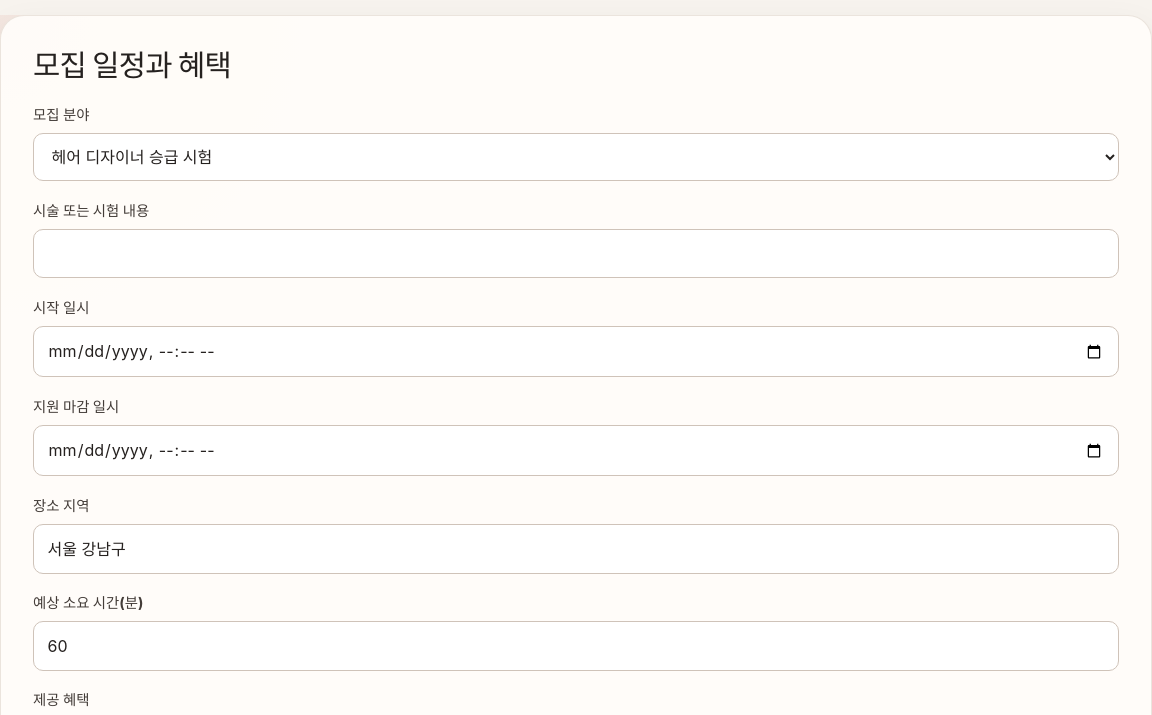
Test case: rejects a paid makeup opportunity when cash amount validation is removed
Type "Bridal makeup practical exam" into the field labelled "시술 또는 시험 내용" at (576, 254), box top-left (33, 229), bottom-right (1119, 278)
Type "2099-06-01T10:00" into the field labelled "시작 일시" at (576, 352), box top-left (33, 326), bottom-right (1119, 377)
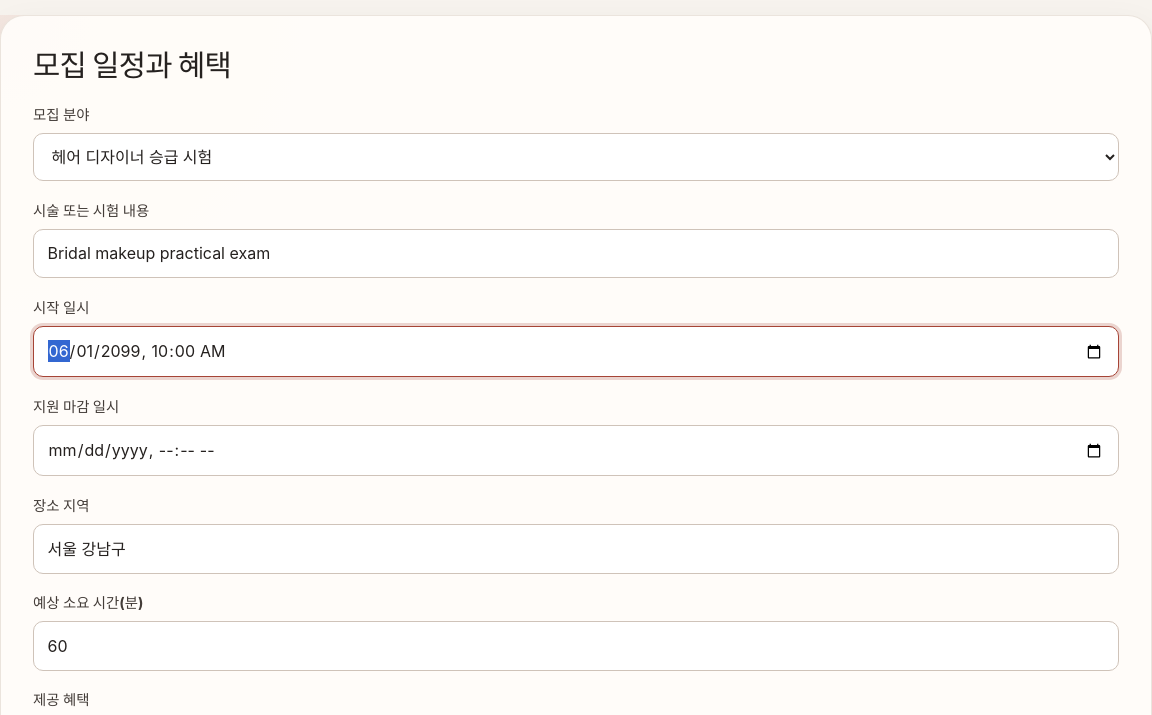
Type "2099-05-31T18:00" into the field labelled "지원 마감 일시" at (576, 451), box top-left (33, 425), bottom-right (1119, 476)
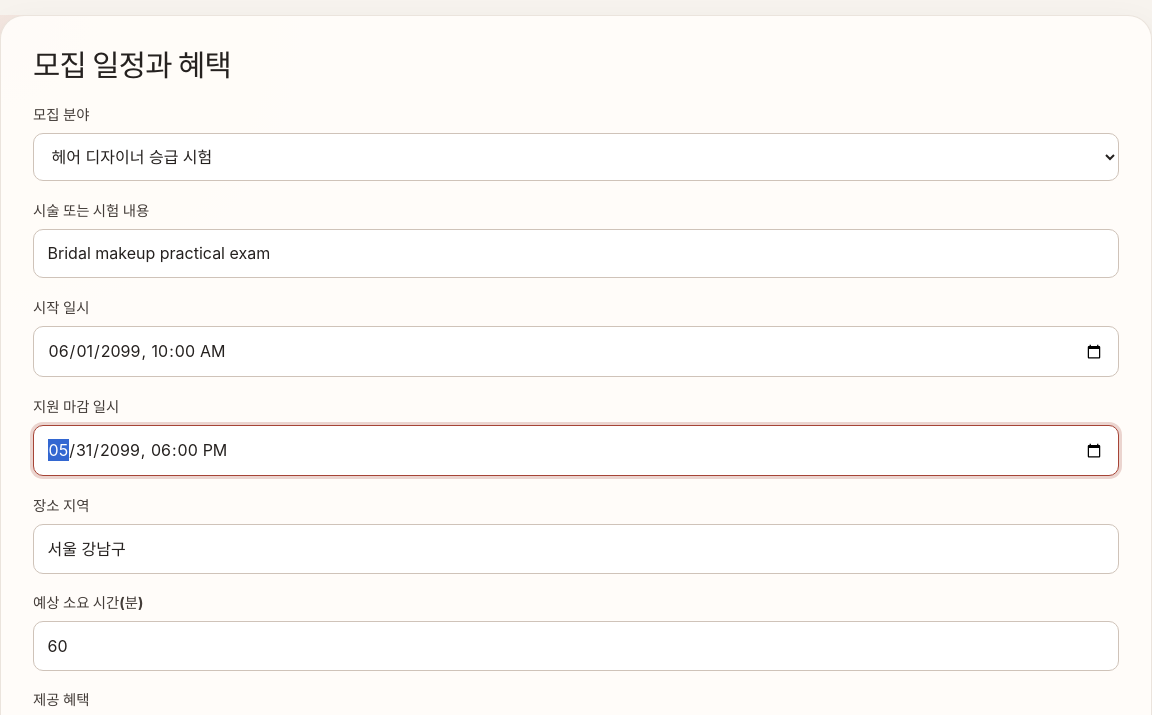
Replace the text in the number field labelled "예상 소요 시간(분)" with "120" at (576, 646), box top-left (33, 621), bottom-right (1119, 671)
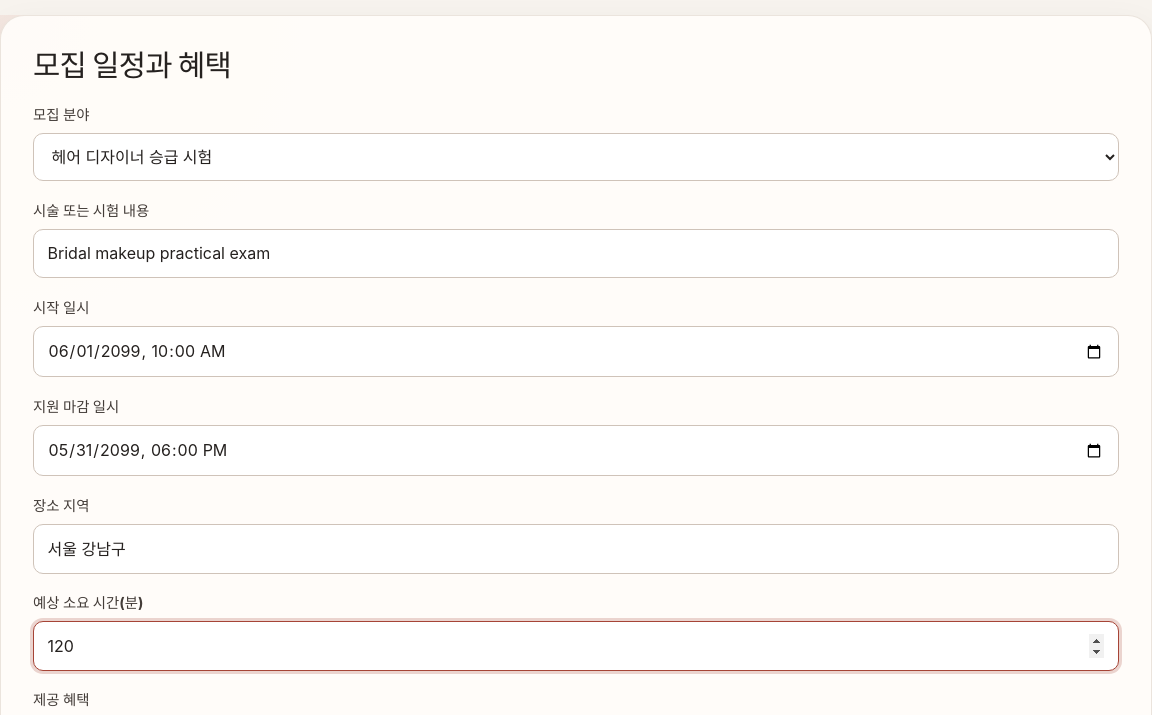
Select "메이크업 국가자격 실기시험" in the dropdown labelled "모집 분야" at (576, 157), box top-left (33, 133), bottom-right (1119, 181)
(page scrolled)
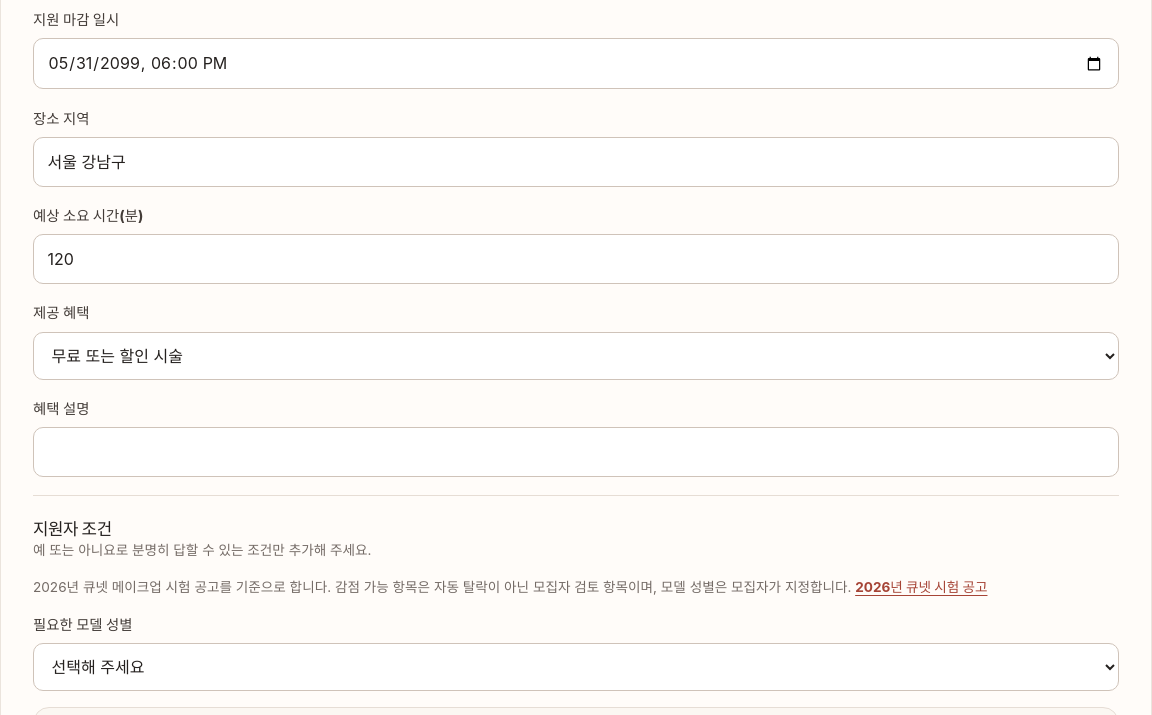
Select "현금 지급" in the dropdown labelled "제공 혜택" at (576, 356), box top-left (33, 332), bottom-right (1119, 380)
(page scrolled)
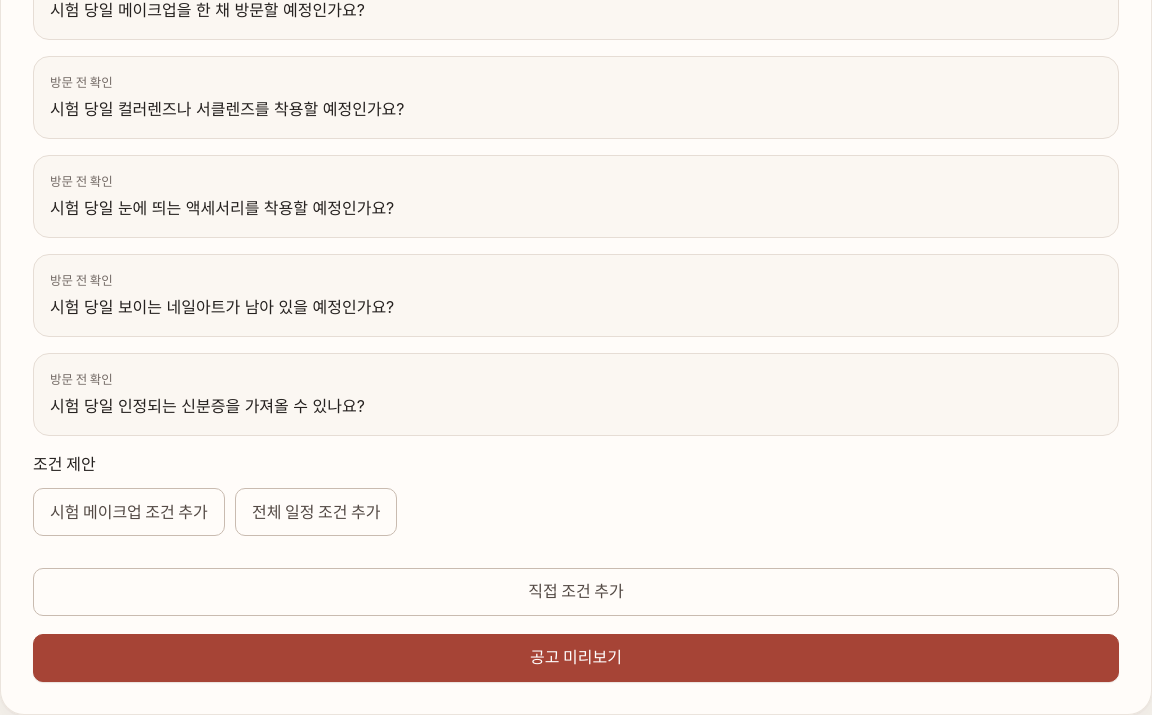
Click the button "공고 미리보기" at (576, 658), box top-left (33, 634), bottom-right (1119, 682)
(page scrolled)
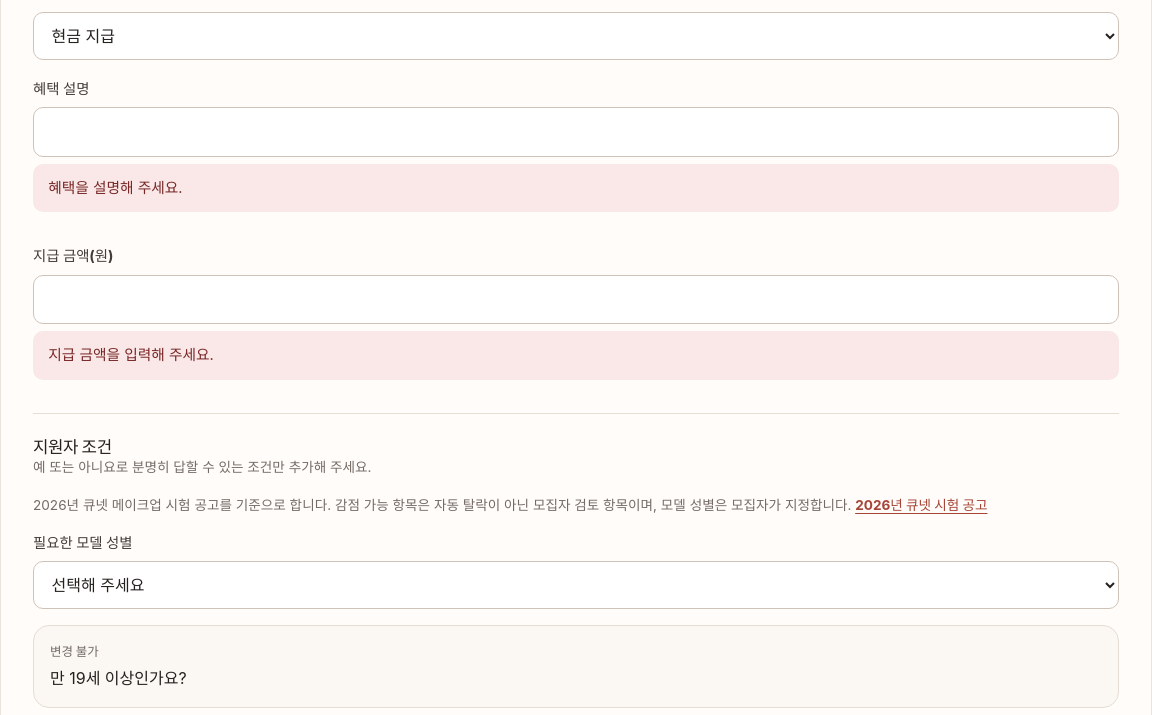
expect the text "지급 금액을 입력해 주세요." is shown: met, box top-left (33, 331), bottom-right (1119, 380)
